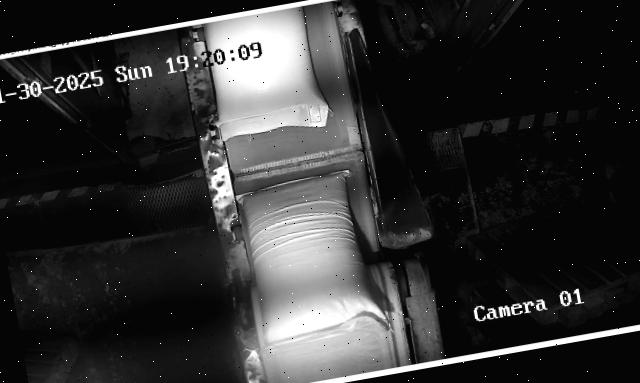bag: (200, 3, 333, 140)
